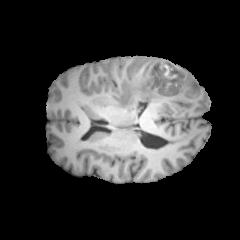glioma: (111, 58, 197, 112)
